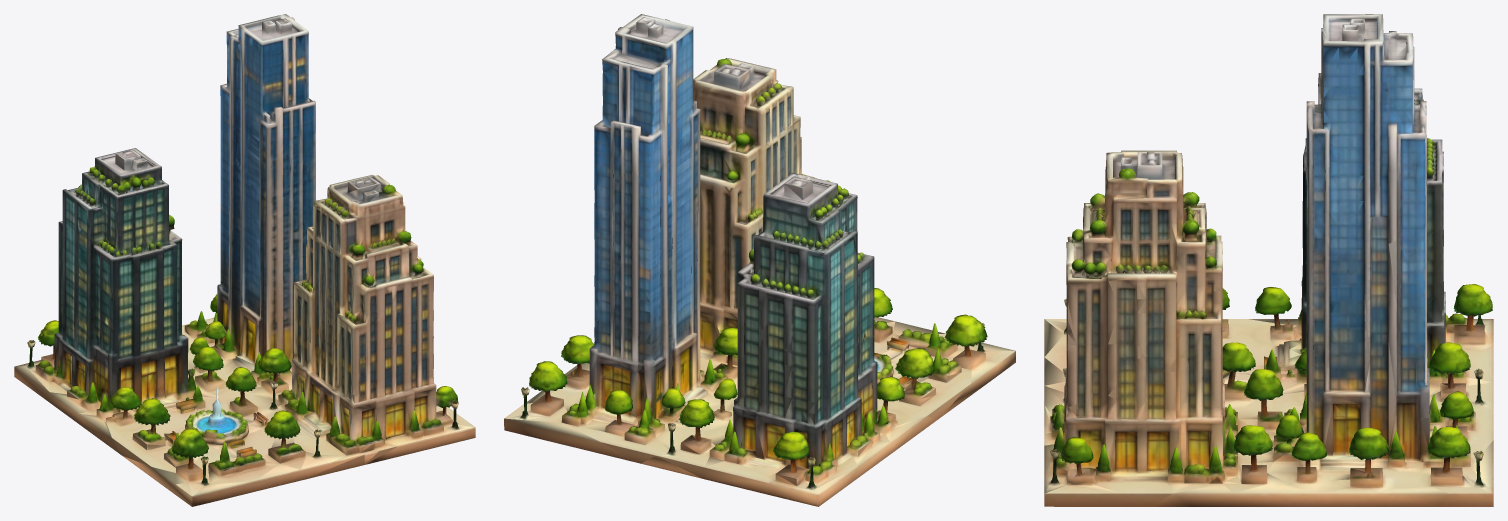
File: block-fidi-a.glb
3 renders of one model, left to right at view 1: azimuth 30°, elevation 25°; view 2: azimuth 150°, elevation 25°; view 3: azimuth 270°, elevation 25°, orthographic. The views are drawn at different scales.
Parts seen in each view (by area): view 1: low; view 2: low; view 3: low.
Part boxes in pixels (x1,y1,x2,y2): low: (14,14,475,506); low: (504,14,1015,506); low: (1044,14,1493,506).
Bounding box in the file's own units: 0.8435 × 0.9801 × 0.9168.
1 material, 1 textured.
